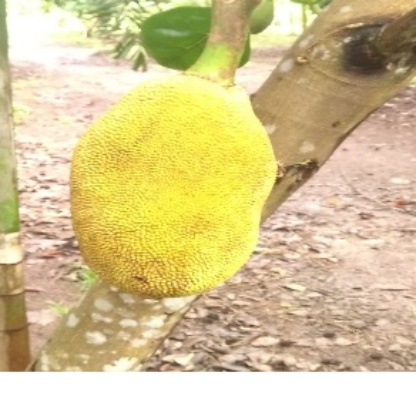mit: (64, 76, 273, 310)
